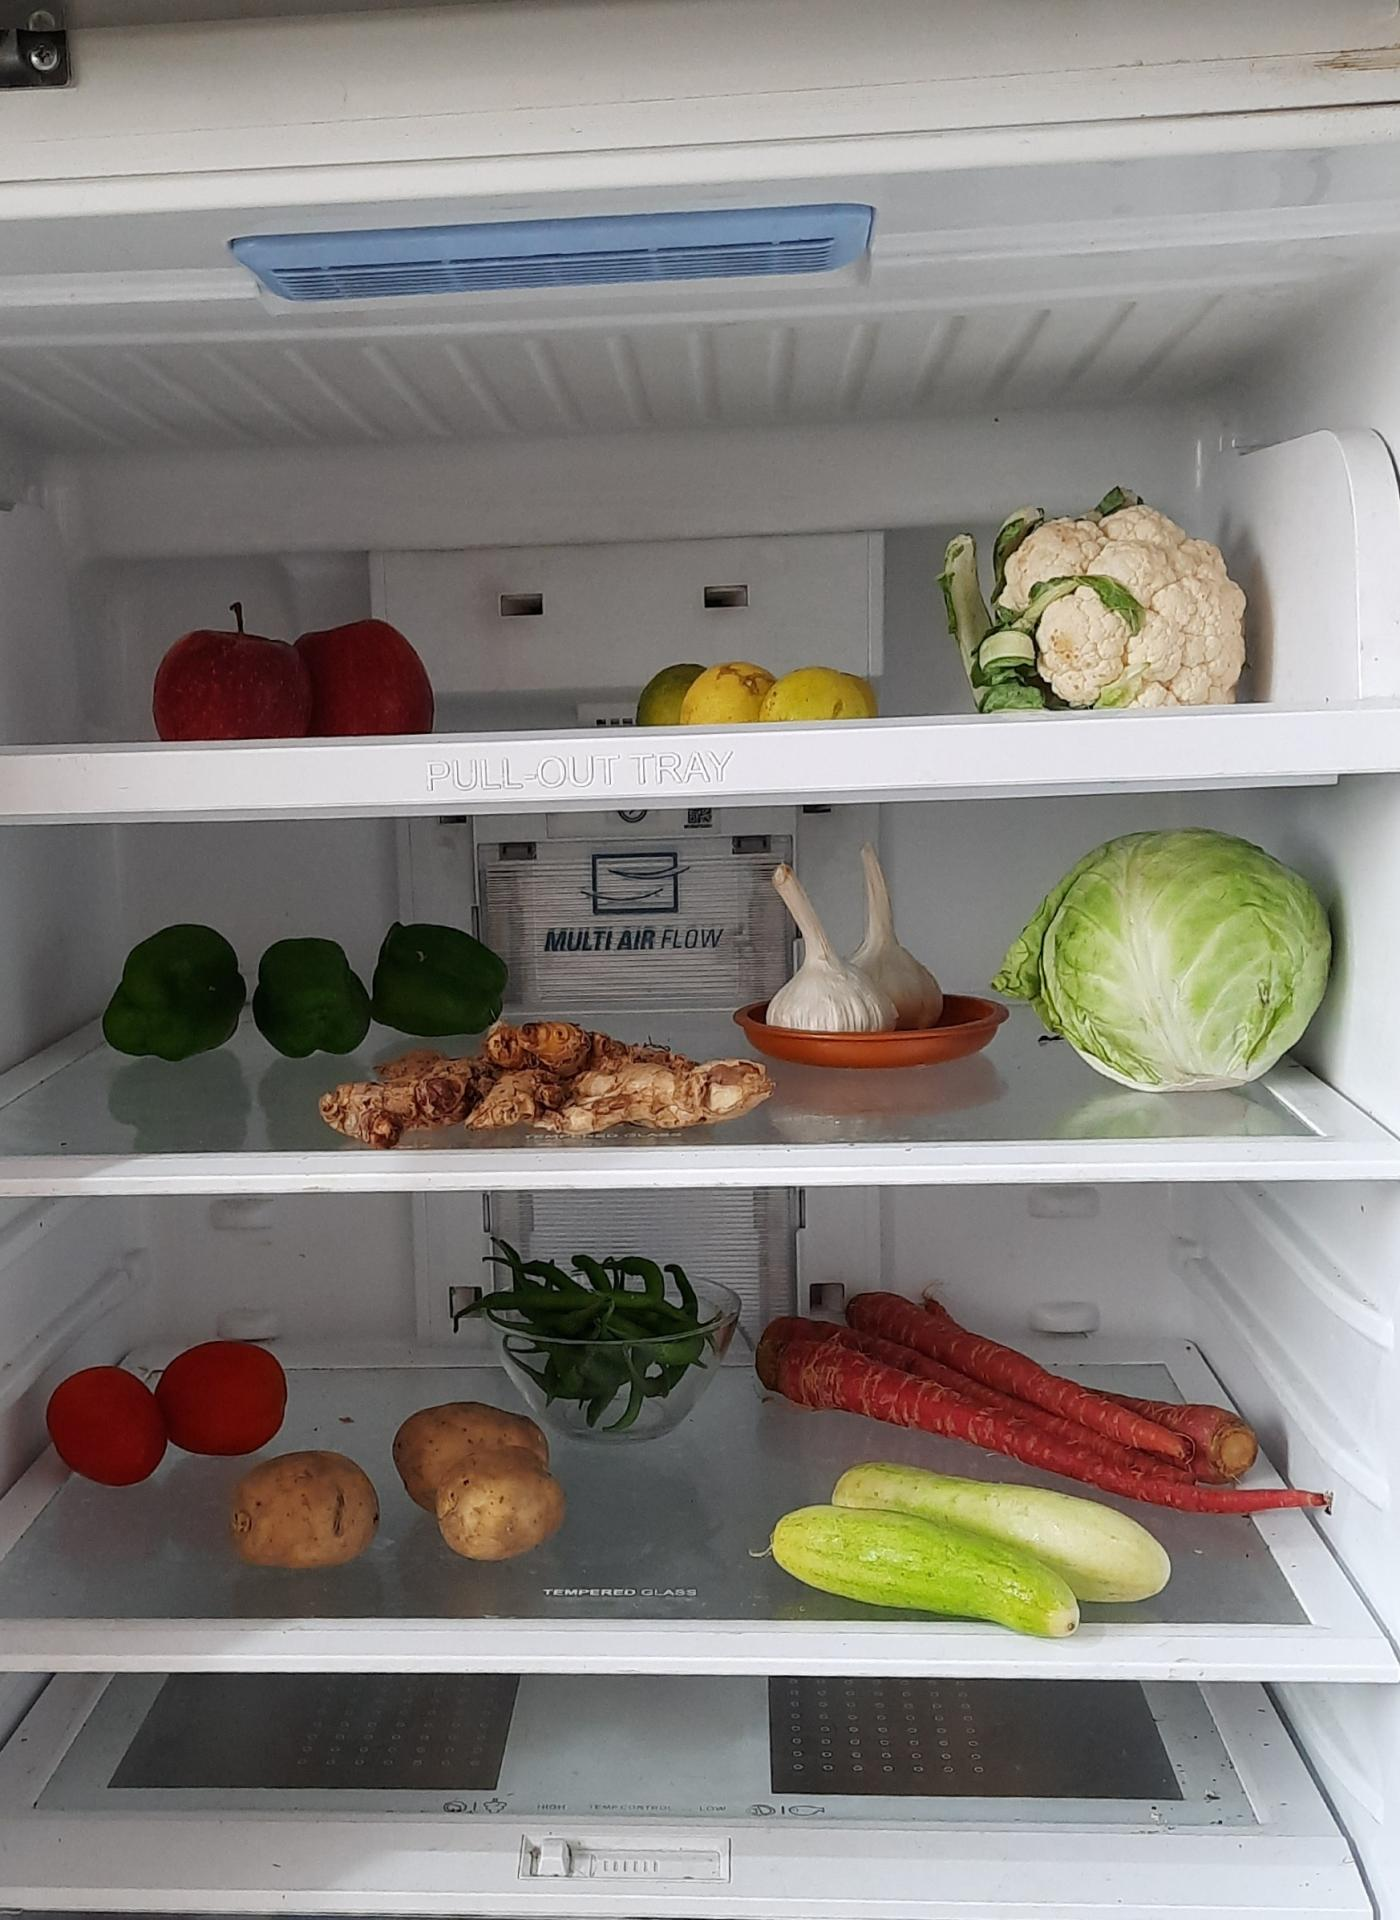apple: (152, 605, 432, 735)
cabbage: (1018, 832, 1339, 1097)
capsicum: (101, 918, 249, 1067), (370, 914, 511, 1035), (250, 927, 371, 1063)
carrots: (753, 1283, 1297, 1519)
cauliflower: (948, 489, 1249, 714)
chillies: (480, 1234, 717, 1427)
cucumber: (763, 1483, 1173, 1637)
garlic: (769, 836, 950, 1036)
ginger: (313, 1039, 762, 1157)
lemon: (646, 651, 881, 738)
potato: (395, 1392, 576, 1564), (239, 1441, 389, 1583)
tomato: (49, 1340, 286, 1489)
